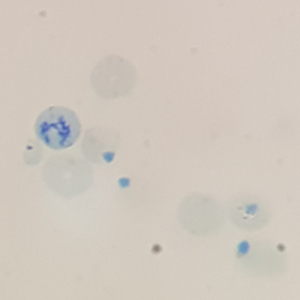aggregate reticulocyte: (32, 105, 84, 152)
erythrocyte: (39, 150, 97, 201), (175, 191, 229, 236), (228, 191, 274, 232), (78, 124, 122, 164)
punctate reticulocyte: (88, 54, 140, 101)
